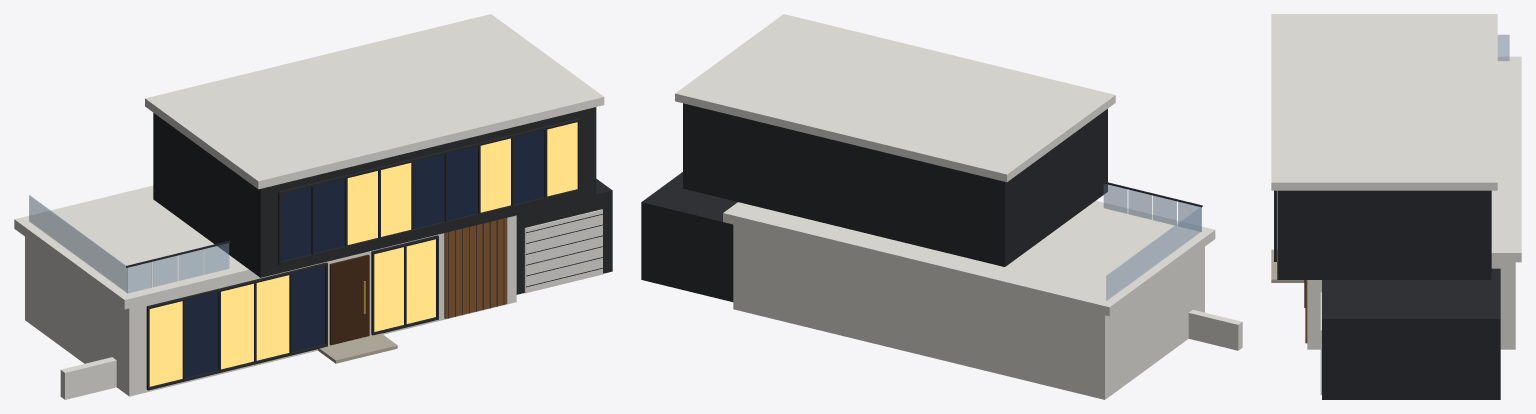
File: mansion_modern.glb
3 views of the same model, side by side, from view 1: azimuth 30°, elevation 25°; view 2: azimuth 150°, elevation 25°; view 3: azimuth 270°, elevation 25° (orthographic). The views are drawn at different scales.
Visible parts, largest first — view 1: mansion_modern; view 2: mansion_modern; view 3: mansion_modern.
Part boxes in pixels (x1,y1,x2,y2): mansion_modern: [14, 14, 612, 399]; mansion_modern: [641, 14, 1242, 399]; mansion_modern: [1271, 14, 1521, 399].
Bounding box in the file's own units: 21 × 7.45 × 8.4.
